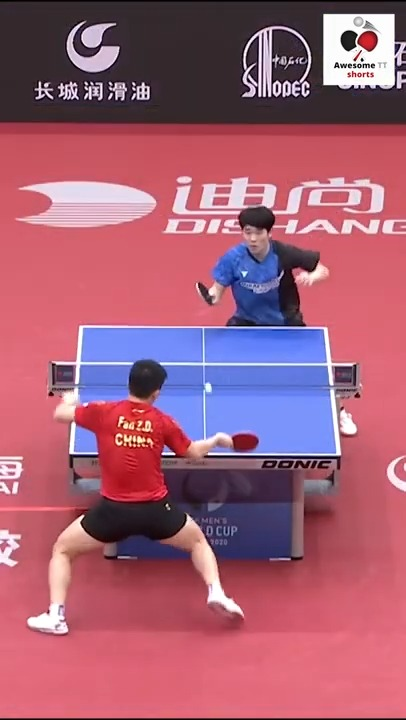Ball: (206, 383, 216, 393)
